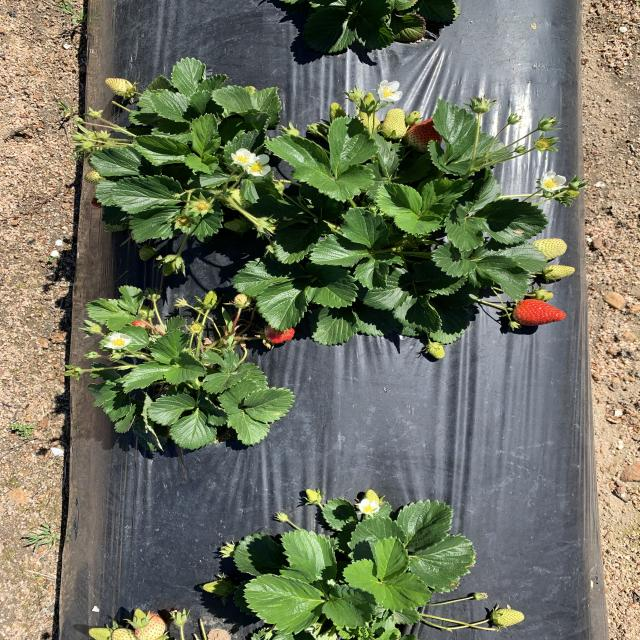unripe: (405, 114, 456, 156), (507, 298, 568, 328), (259, 316, 305, 345)
